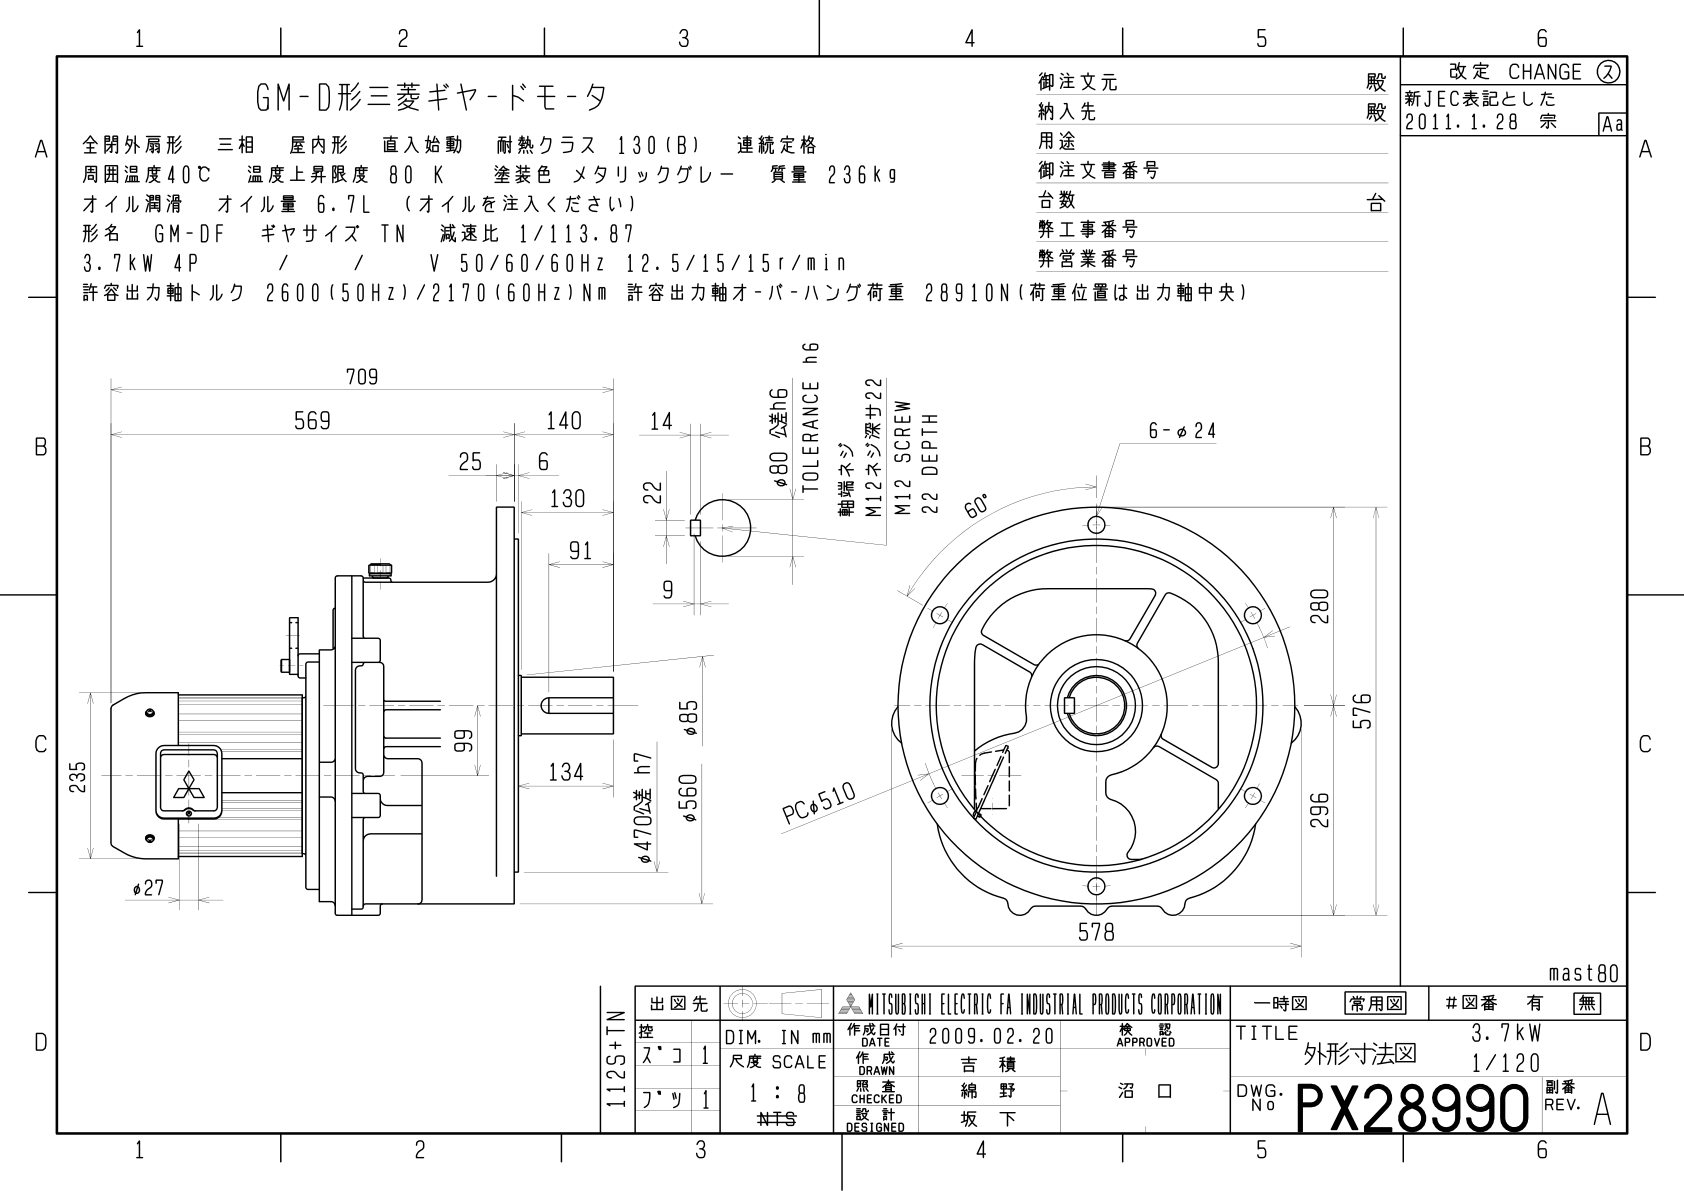GM_D_屋内＿三相_フランジ: (58, 312, 1399, 978)
